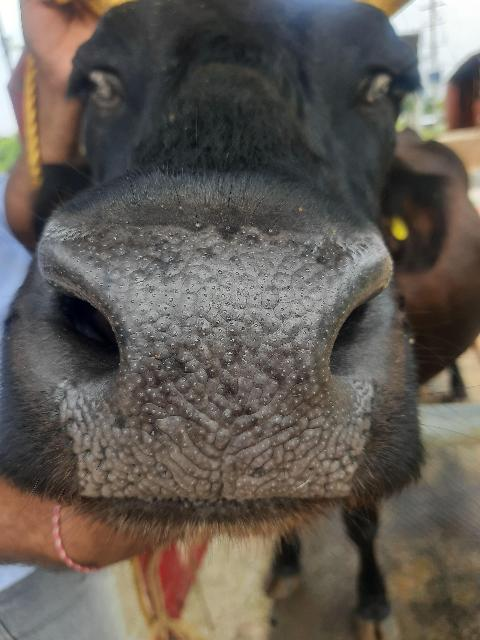Muzzle: (96, 244, 348, 486)
